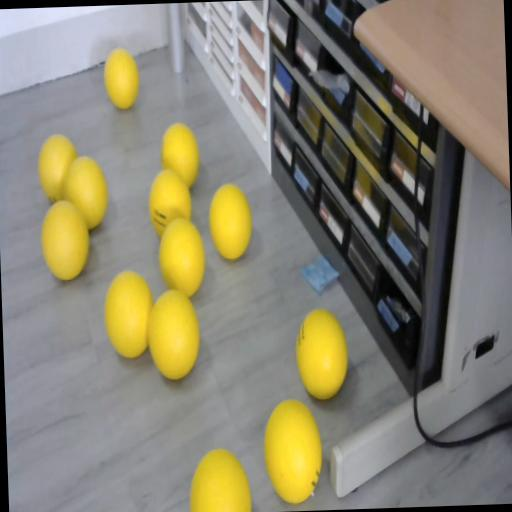FUEL: (262, 397, 324, 502), (292, 306, 348, 400), (144, 288, 200, 380), (102, 269, 155, 359), (38, 197, 92, 282), (186, 446, 251, 512), (156, 215, 206, 297), (206, 182, 252, 260), (36, 133, 80, 204), (159, 121, 200, 188), (102, 46, 139, 110)
